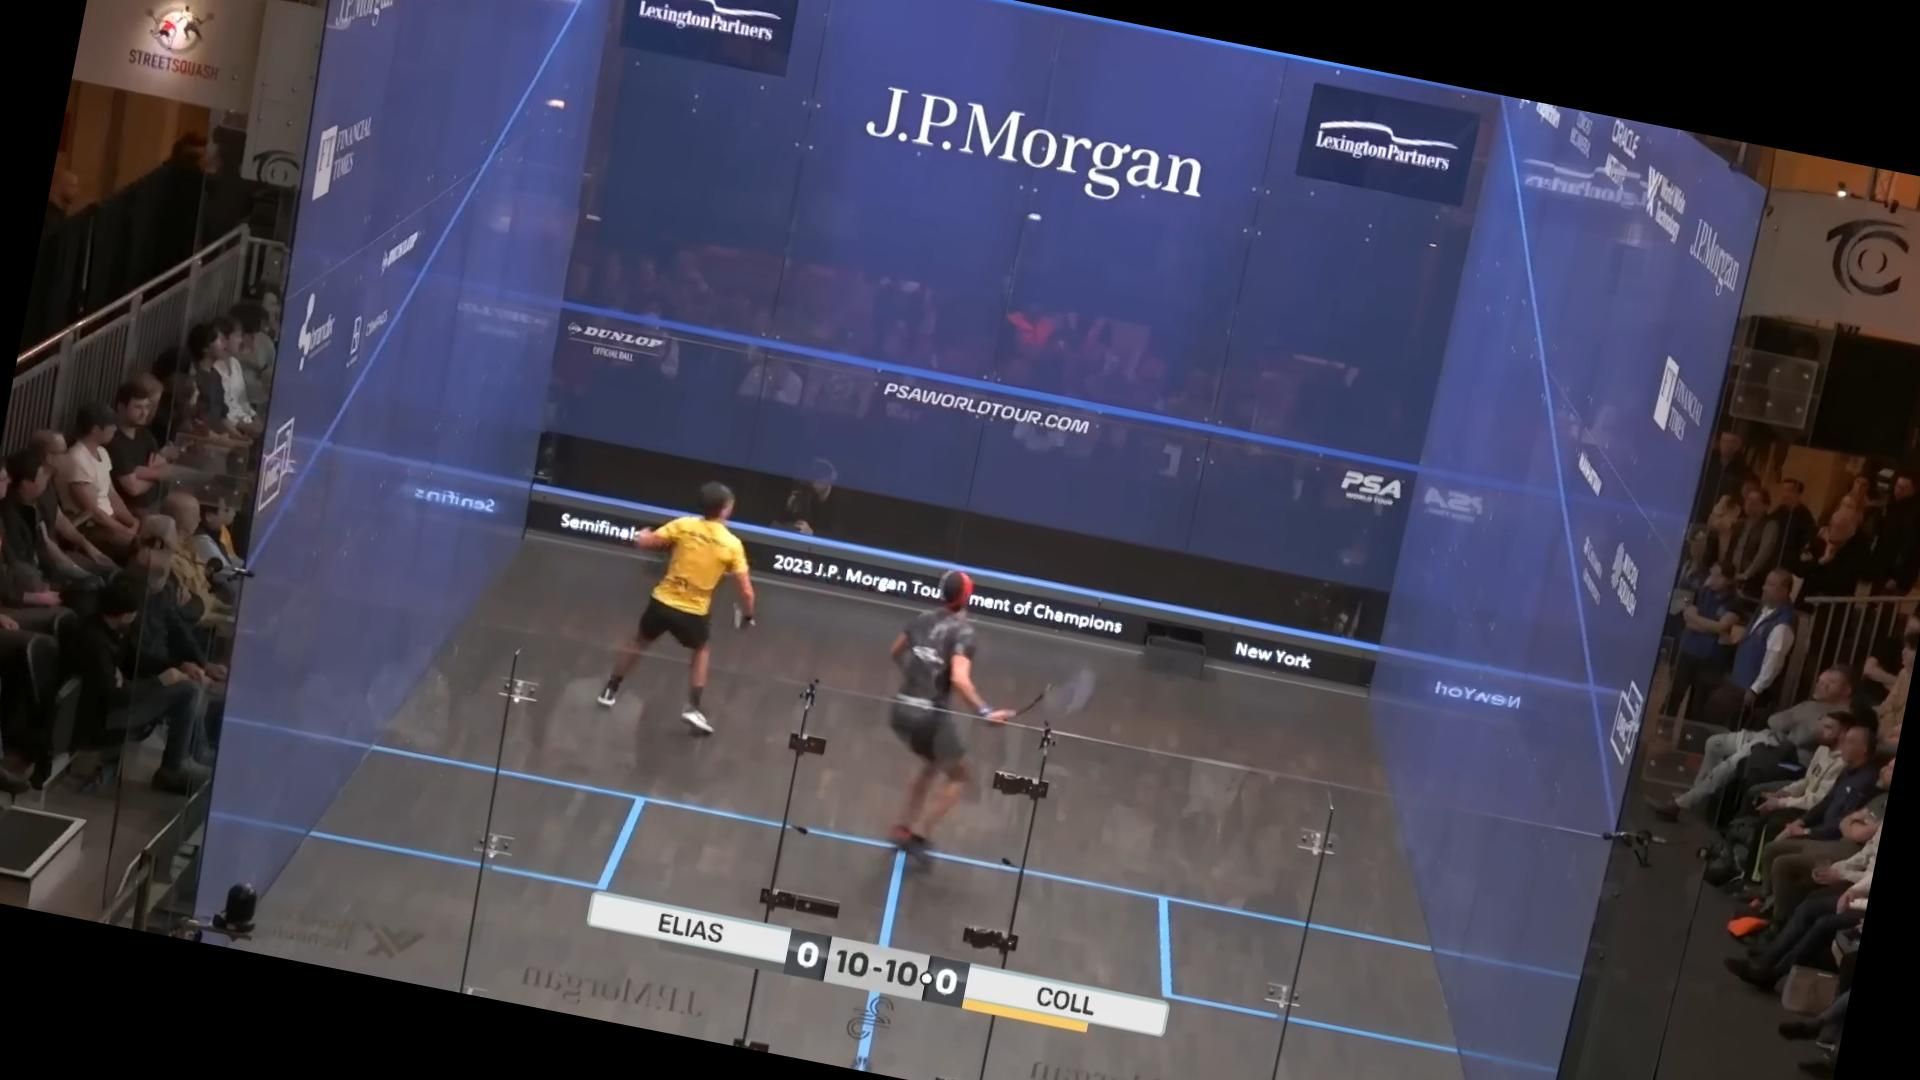Racket: (1002, 644, 1109, 745)
